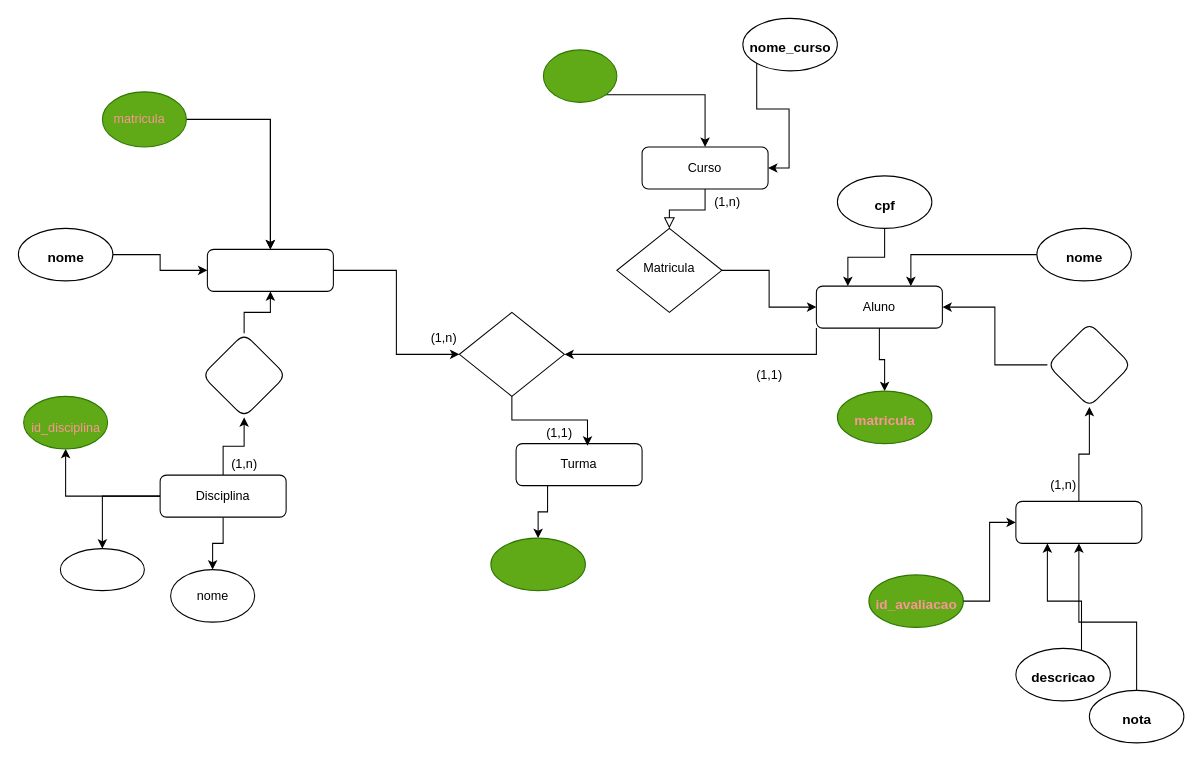
This 1202x782 diagram has some shape labels left out. The centre of each missing label's shape, as x and y in pixels:
"Avaliação" belongs at (1078,521).
"Comporta" belongs at (511,353).
"Conhecimento" belongs at (1088,364).
"ementa" belongs at (101,569).
"Ensino" belongs at (243,374).
"id_curso" belongs at (579,75).
"id_turma" belongs at (537,564).
"Professor" belongs at (269,269).
